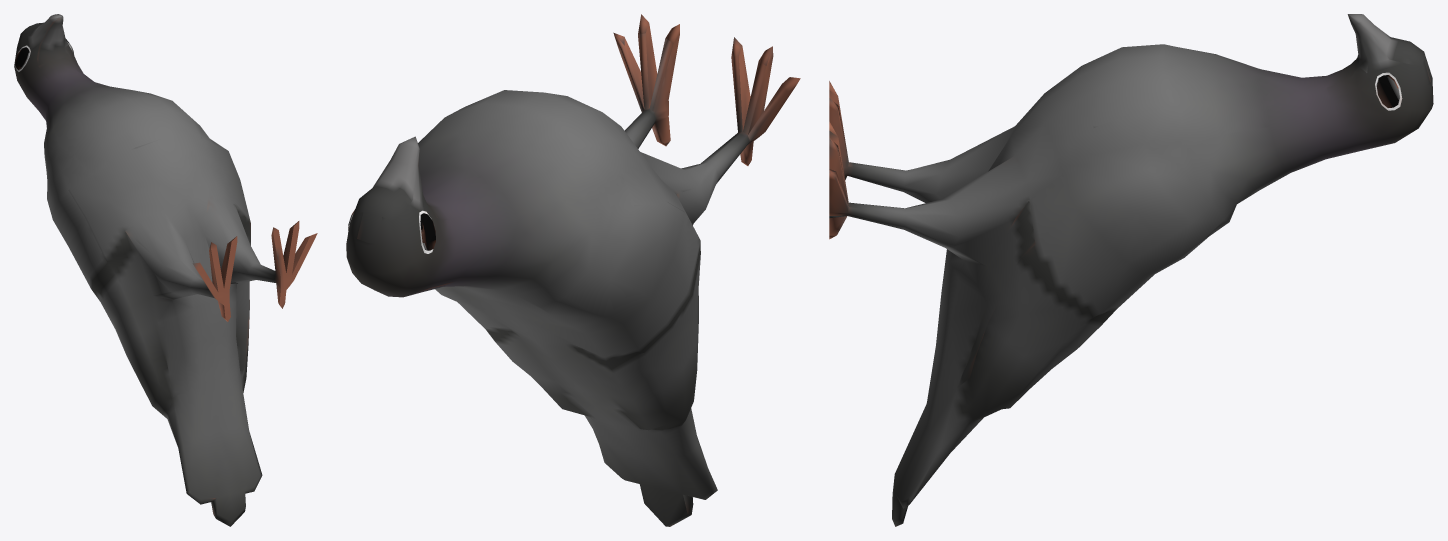
Rendered from holub.obj.
3 renders of one model, left to right at view 1: azimuth 30°, elevation 25°; view 2: azimuth 150°, elevation 25°; view 3: azimuth 270°, elevation 25°, orthographic. The views are drawn at different scales.
Visible parts, largest first — view 1: holub.001_Mesh.005; view 2: holub.001_Mesh.005; view 3: holub.001_Mesh.005.
Boxes of the visible parts, bbox=[...] form: holub.001_Mesh.005: bbox=[14, 14, 317, 526]; holub.001_Mesh.005: bbox=[346, 14, 800, 526]; holub.001_Mesh.005: bbox=[829, 14, 1433, 526].
Bounding box in the file's own units: 30.27 × 67.02 × 71.54.
1 material, 1 textured.
